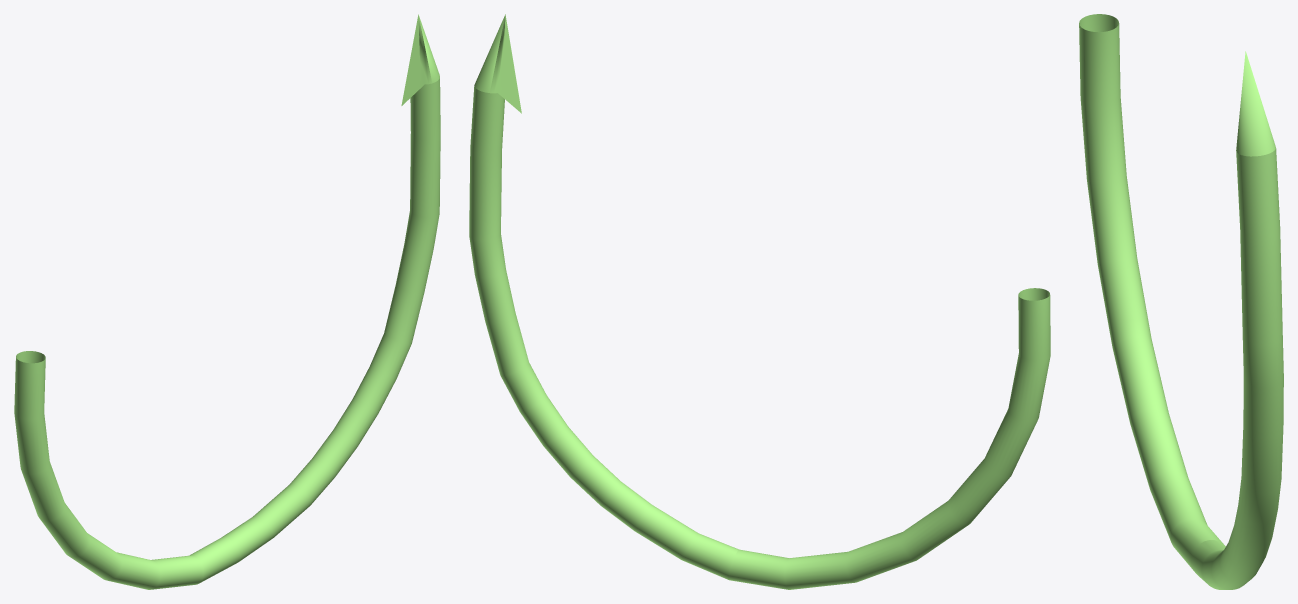
The model's file is needle.fbx.
3 renders of one model, left to right at view 1: azimuth 30°, elevation 25°; view 2: azimuth 150°, elevation 25°; view 3: azimuth 270°, elevation 25°, orthographic. The views are drawn at different scales.
Visible parts, largest first — view 1: instance_4; view 2: instance_4; view 3: instance_4.
Part boxes in pixels (left/top/right/bottom): instance_4: left=14, top=14, right=440, bottom=589; instance_4: left=469, top=14, right=1050, bottom=589; instance_4: left=1079, top=14, right=1283, bottom=589.
Bounding box in the file's own units: 303 × 297 × 82.87.
